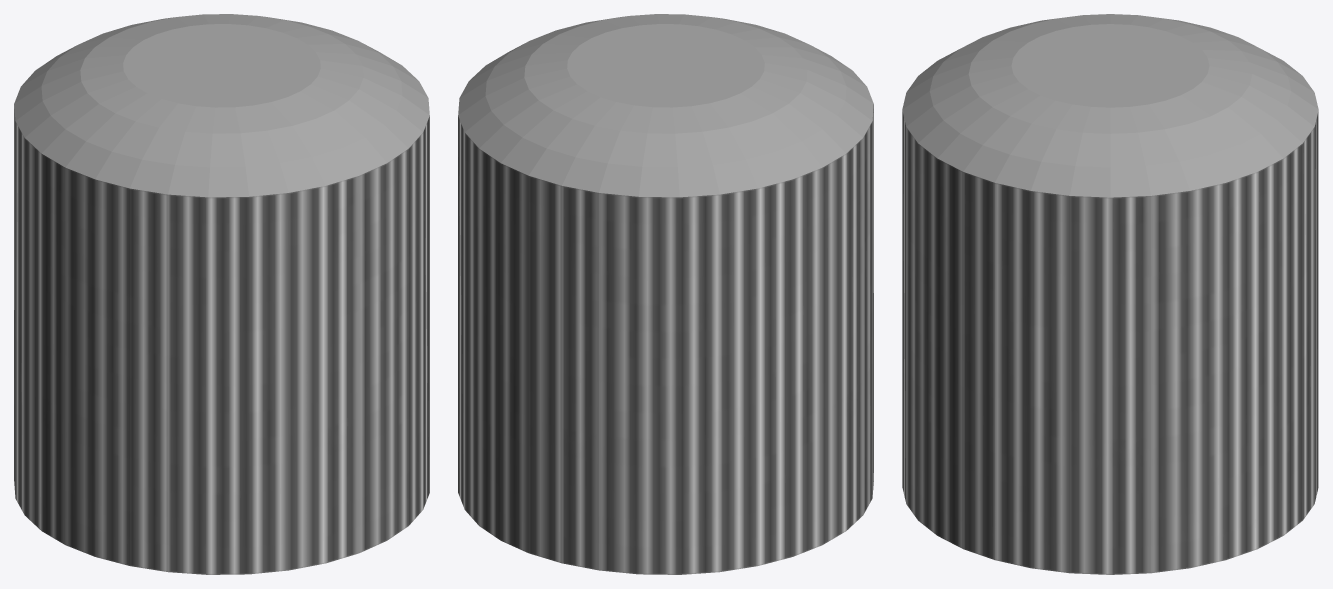
The model's file is Grainbin.fbx.
3 views of the same model, side by side, from view 1: azimuth 30°, elevation 25°; view 2: azimuth 150°, elevation 25°; view 3: azimuth 270°, elevation 25° (orthographic).
Visible parts, largest first — view 1: Grainbin; view 2: Grainbin; view 3: Grainbin.
Part boxes in pixels (<box>): Grainbin: <box>14,14,429,574</box>; Grainbin: <box>458,14,873,574</box>; Grainbin: <box>902,14,1318,574</box>.
Bounding box in the file's own units: 25.37 × 25.37 × 28.31.
